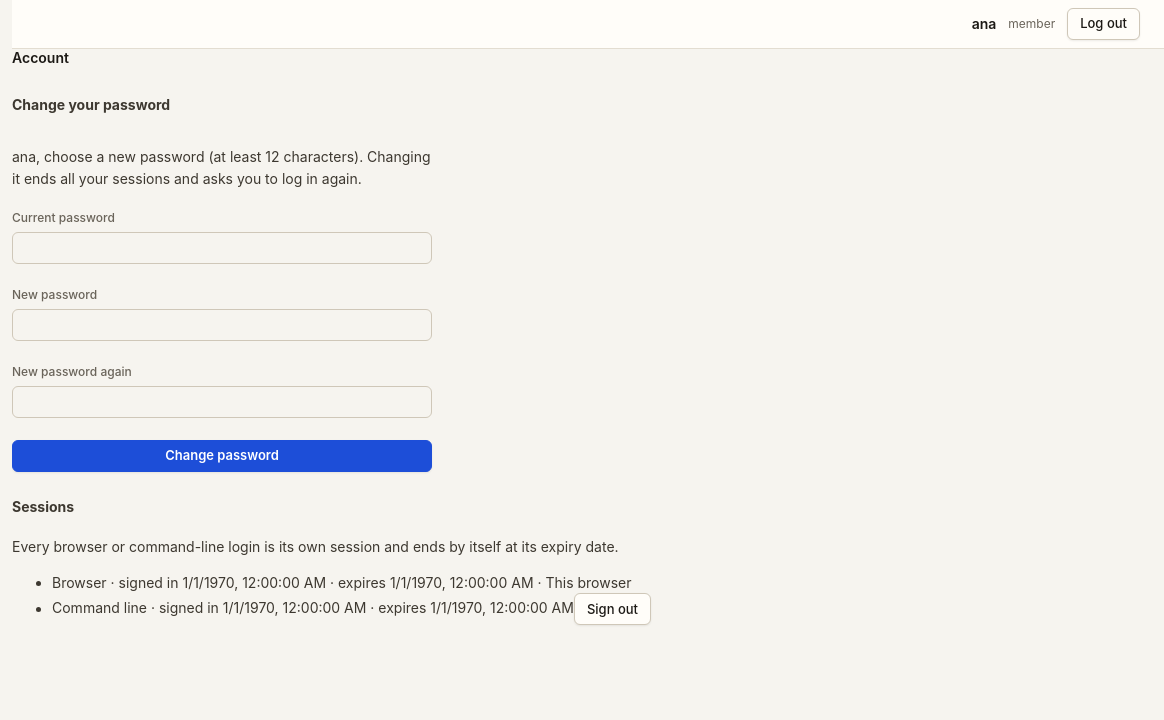
Test case: sessions in the account settings (CLI v2 spec §15.3) › lists this browser and the CLI token, and revokes the CLI one
Expected: the list item "Command line" is shown, [52,600,574,617]
Click the button "Sign out".
click(612, 610)  # box [574,594,651,626]
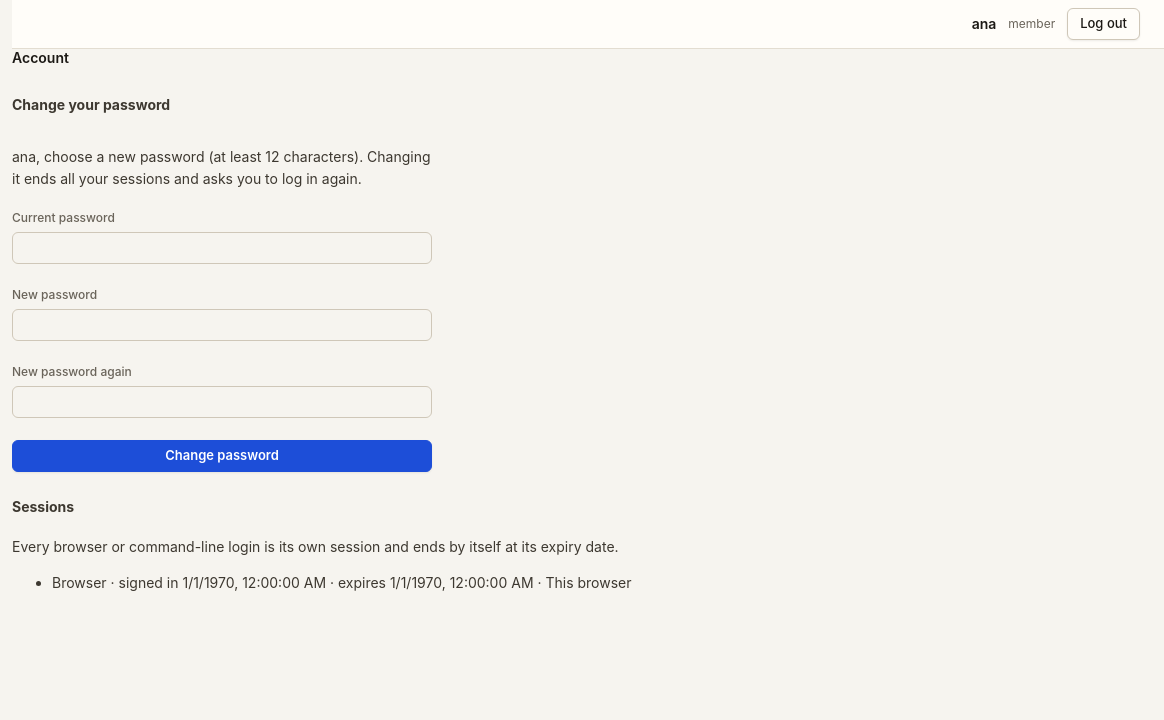
Expected: the list item "Command line" is gone
